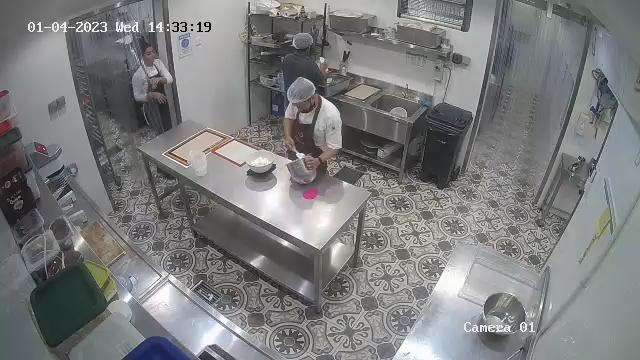apron: (282, 104, 330, 170), (138, 57, 175, 136)
